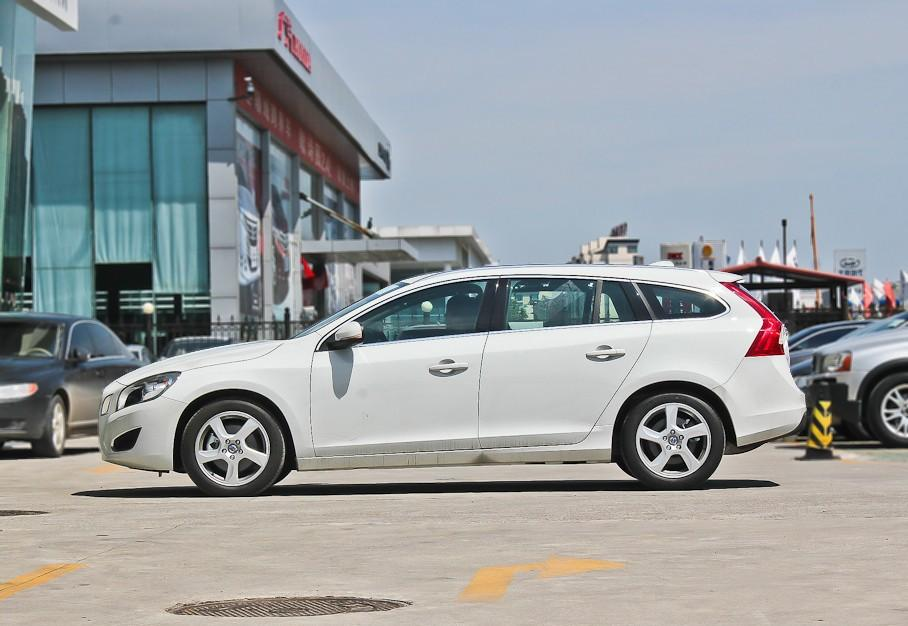Wagon: (97, 262, 808, 498)
